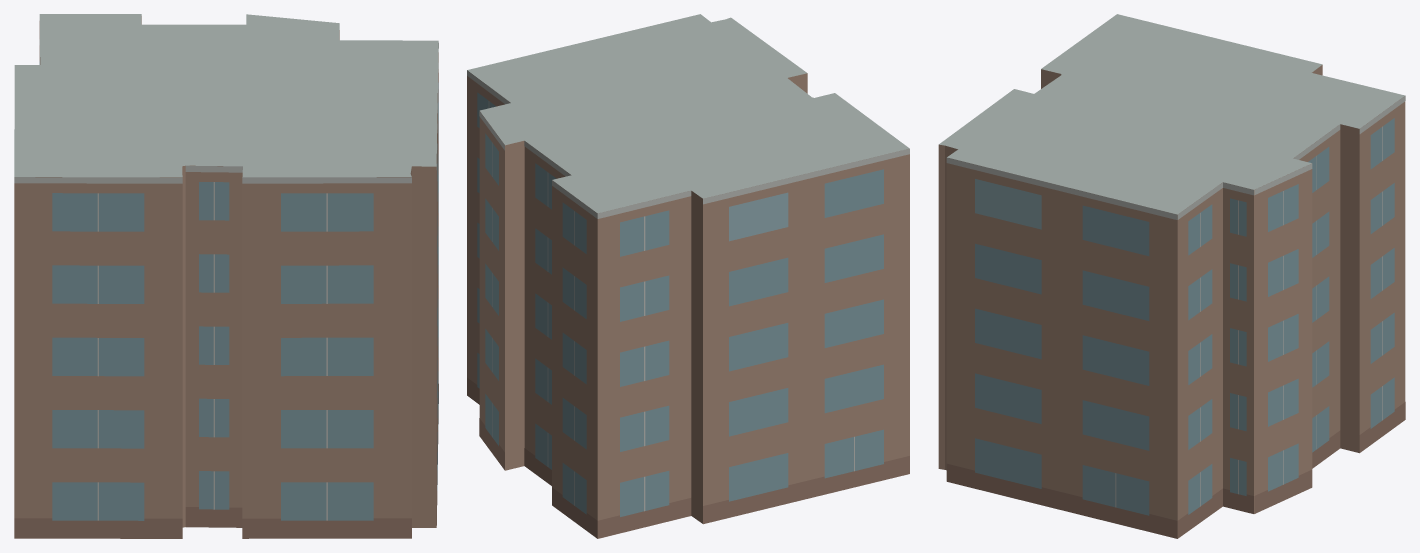
Rendered from survey-upis-32748262.glb.
3 views of the same model, side by side, from view 1: azimuth 30°, elevation 25°; view 2: azimuth 150°, elevation 25°; view 3: azimuth 270°, elevation 25° (orthographic). The views are drawn at different scales.
Visible parts, largest first — view 1: survey-upis-32748262.tmp; view 2: survey-upis-32748262.tmp; view 3: survey-upis-32748262.tmp.
Boxes of the visible parts, <box> form: survey-upis-32748262.tmp: <box>14,14,438,538</box>; survey-upis-32748262.tmp: <box>467,14,909,538</box>; survey-upis-32748262.tmp: <box>938,14,1405,538</box>.
Bounding box in the file's own units: 18.58 × 14 × 18.27.
